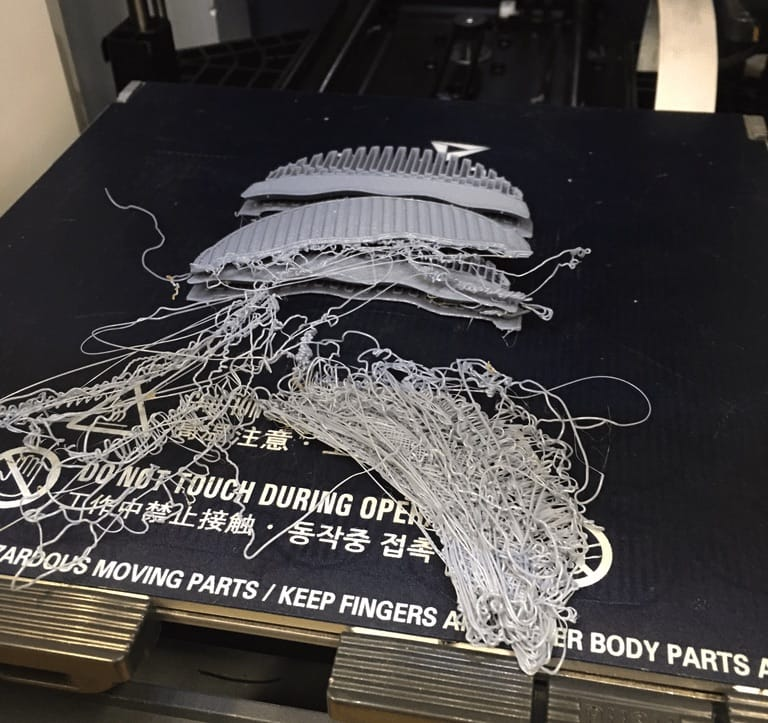fail: (282, 339, 655, 679), (3, 286, 336, 555), (130, 235, 597, 341)
